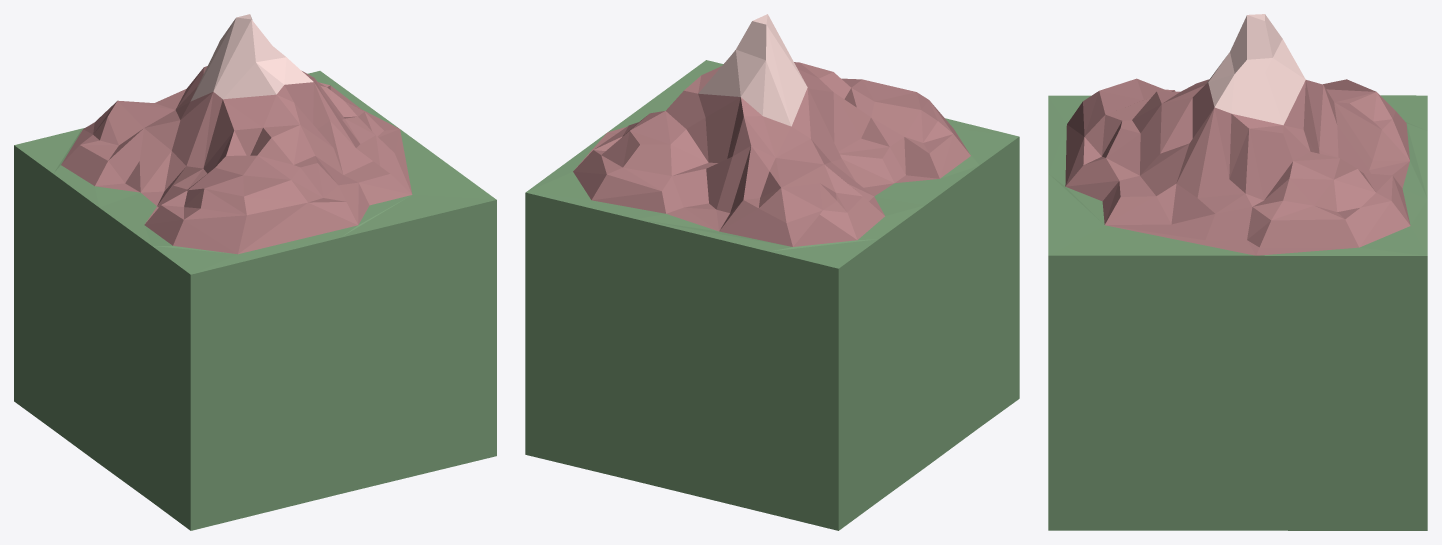
The model's file is Mountain_16tile (3).fbx.
3 renders of one model, left to right at view 1: azimuth 30°, elevation 25°; view 2: azimuth 150°, elevation 25°; view 3: azimuth 270°, elevation 25°, orthographic. The views are drawn at different scales.
Parts seen in each view (by area): view 1: Plane; view 2: Plane; view 3: Plane.
Part boxes in pixels (<box>): Plane: <box>14,14,496,530</box>; Plane: <box>525,14,1019,530</box>; Plane: <box>1048,14,1427,530</box>.
Bounding box in the file's own units: 2000 × 2538 × 2000.
